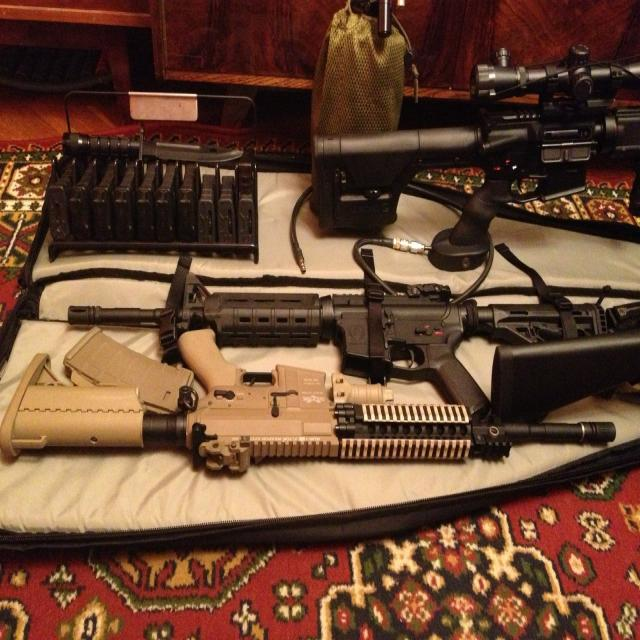firearm: (67, 252, 640, 418), (0, 328, 618, 462), (312, 43, 640, 248)
knife: (63, 124, 244, 163)
